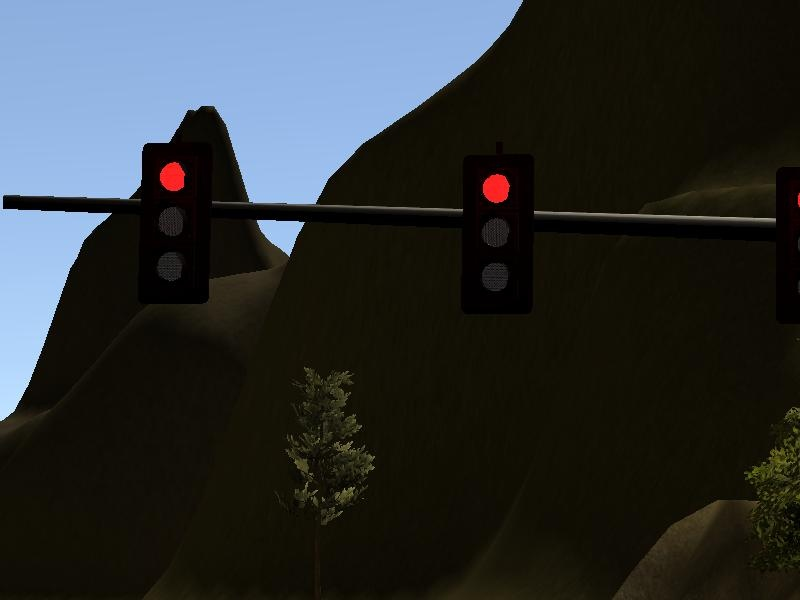red: (461, 157, 534, 313), (140, 143, 210, 304)
